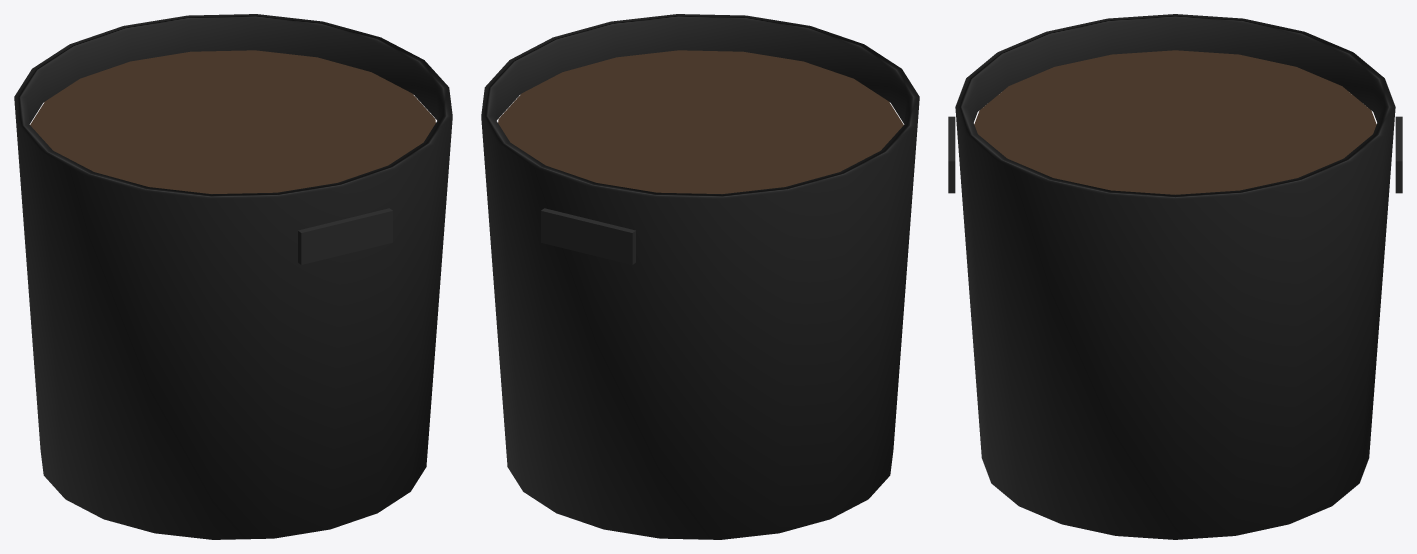
Rendered from pot-fabric-3gal-plant-empty.glb.
The picture shows the model from 3 angles, left to right: view 1: azimuth 30°, elevation 25°; view 2: azimuth 150°, elevation 25°; view 3: azimuth 270°, elevation 25°; orthographic projection.
Parts seen in each view (by area): view 1: pot_body, soil_surface, pot_handles; view 2: pot_body, soil_surface, pot_handles; view 3: pot_body, soil_surface, pot_handles.
Part boxes in pixels (x1=…): pot_body: x1=14, y1=14, x2=452, y2=539; soil_surface: x1=30, y1=50, x2=435, y2=193; pot_handles: x1=298, y1=208, x2=392, y2=264; pot_body: x1=481, y1=14, x2=919, y2=539; soil_surface: x1=498, y1=50, x2=903, y2=193; pot_handles: x1=541, y1=208, x2=635, y2=264; pot_body: x1=955, y1=14, x2=1395, y2=539; soil_surface: x1=974, y1=50, x2=1376, y2=194; pot_handles: x1=948, y1=116, x2=1402, y2=193.
Size of the model in its own units: 0.25 by 0.22 by 0.258.
